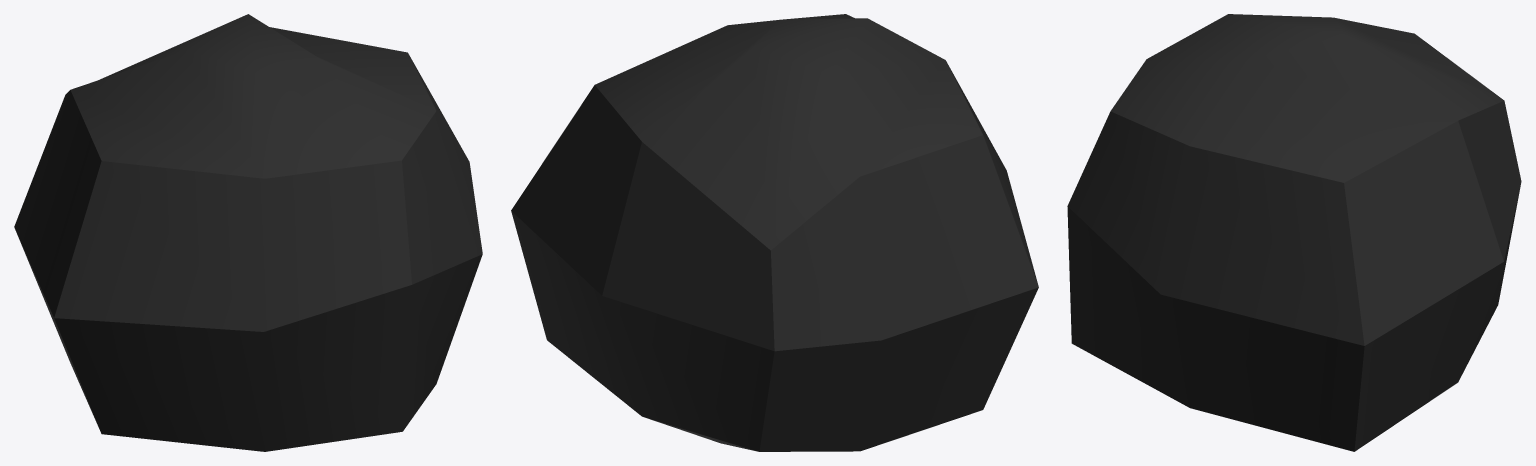
File: stone.fbx
3 renders of one model, left to right at view 1: azimuth 30°, elevation 25°; view 2: azimuth 150°, elevation 25°; view 3: azimuth 270°, elevation 25°, orthographic. The views are drawn at different scales.
Parts seen in each view (by area): view 1: Stone; view 2: Stone; view 3: Stone.
Part boxes in pixels (x1,y1,x2,y2): Stone: [14, 14, 482, 451]; Stone: [511, 14, 1038, 451]; Stone: [1067, 14, 1521, 451].
Bounding box in the file's own units: 48.77 × 38.23 × 42.57.
